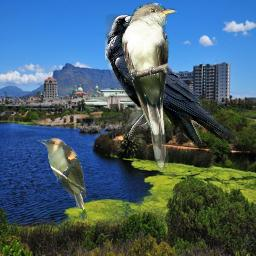Crow: (105, 14, 240, 143)
Cuckoo: (122, 2, 177, 172), (36, 137, 89, 224)
